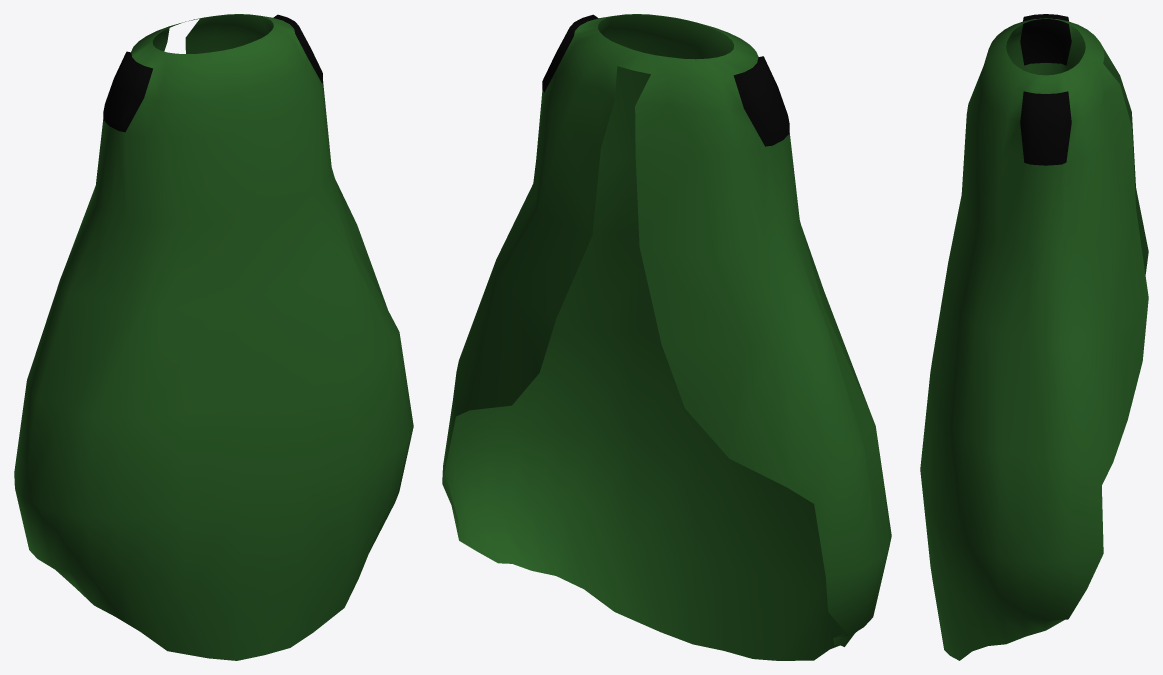
Rendered from LongSkirt.fbx.
3 renders of one model, left to right at view 1: azimuth 30°, elevation 25°; view 2: azimuth 150°, elevation 25°; view 3: azimuth 270°, elevation 25°, orthographic. The views are drawn at different scales.
Visible parts, largest first — view 1: Skirt.001; view 2: Skirt.001; view 3: Skirt.001.
Part boxes in pixels (x1,y1,x2,y2): Skirt.001: [14, 14, 413, 660]; Skirt.001: [442, 14, 891, 660]; Skirt.001: [920, 14, 1148, 660].
Size of the model in its own units: 55.25 by 81.36 by 28.57.
